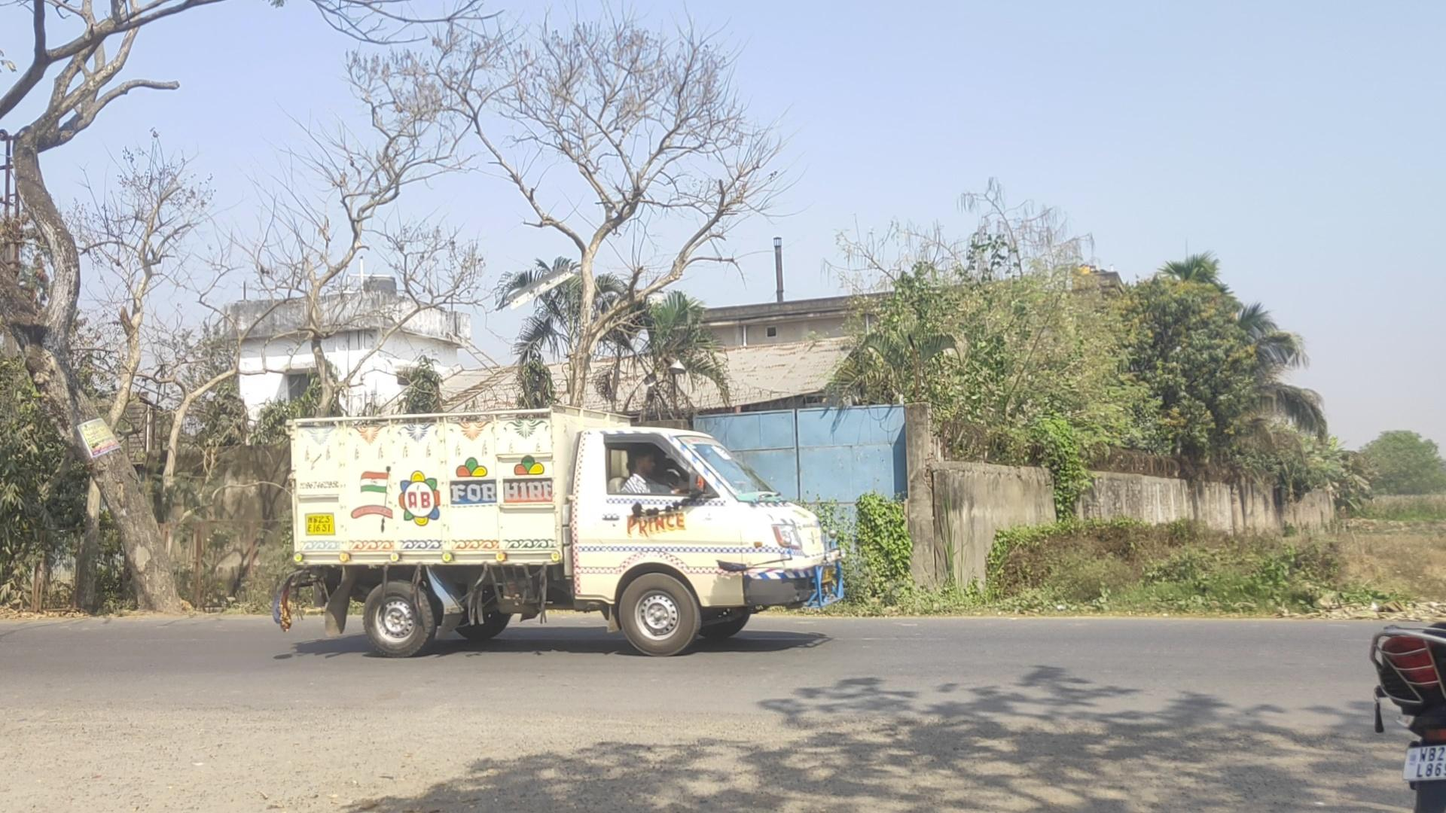van: (284, 401, 845, 658)
